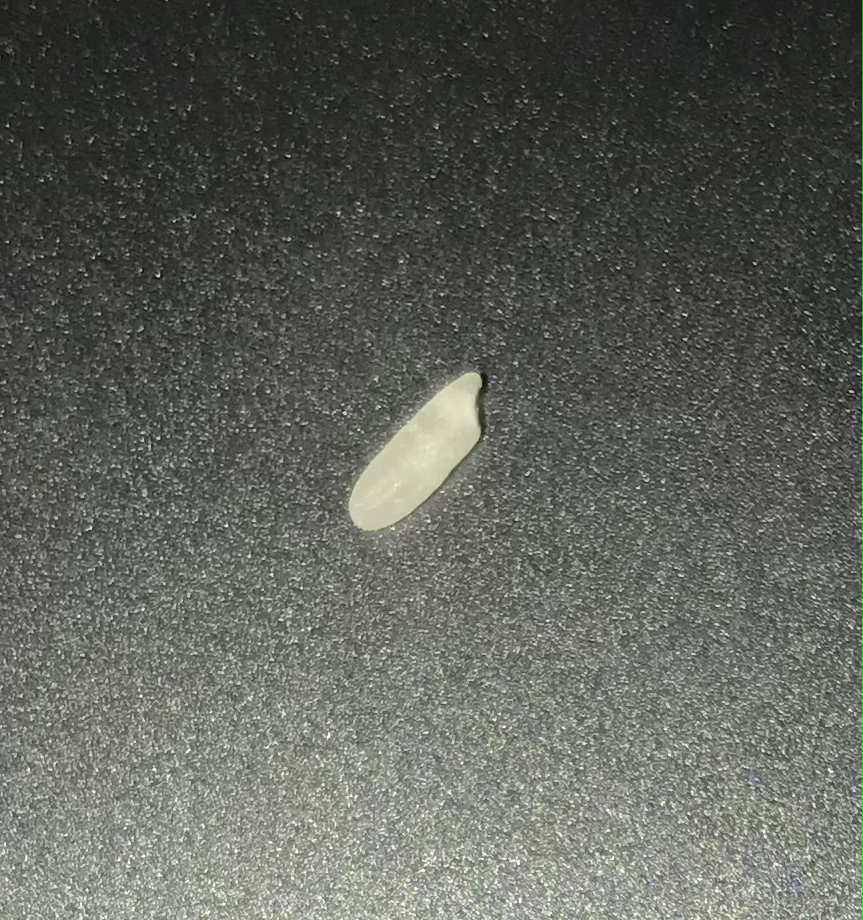Gao Tam Thom: (343, 348, 495, 537)
